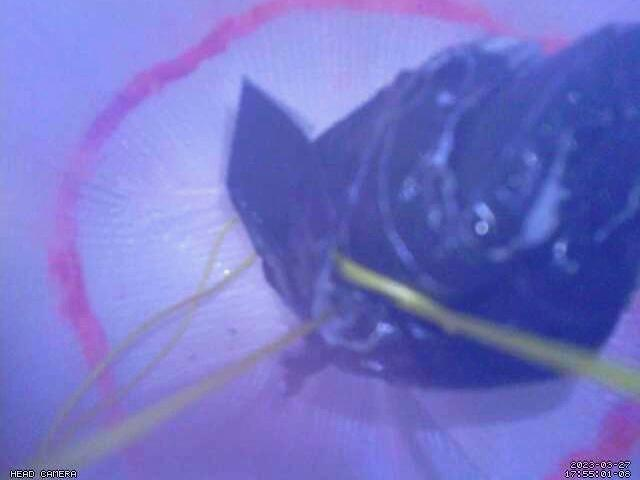head: (49, 0, 640, 480)
